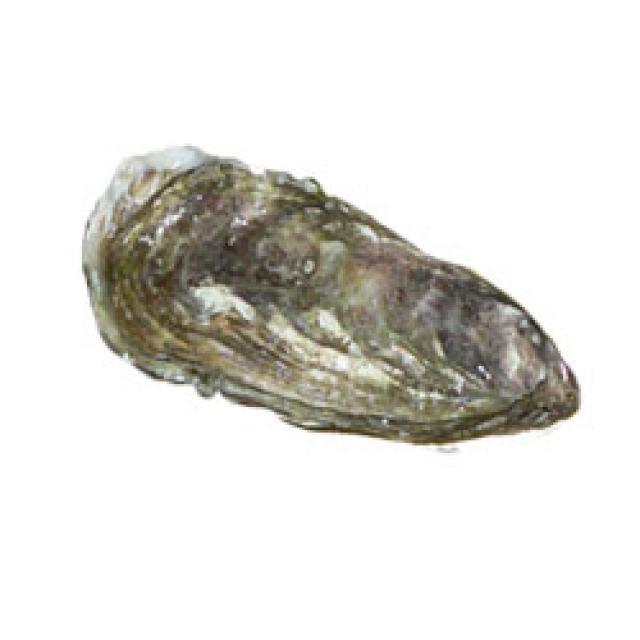Oyster- Indeterminate: (69, 136, 587, 456)
